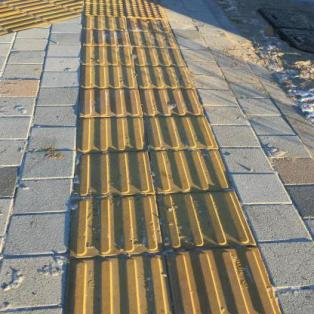Podoctatil: (62, 1, 287, 314), (0, 0, 85, 40)
